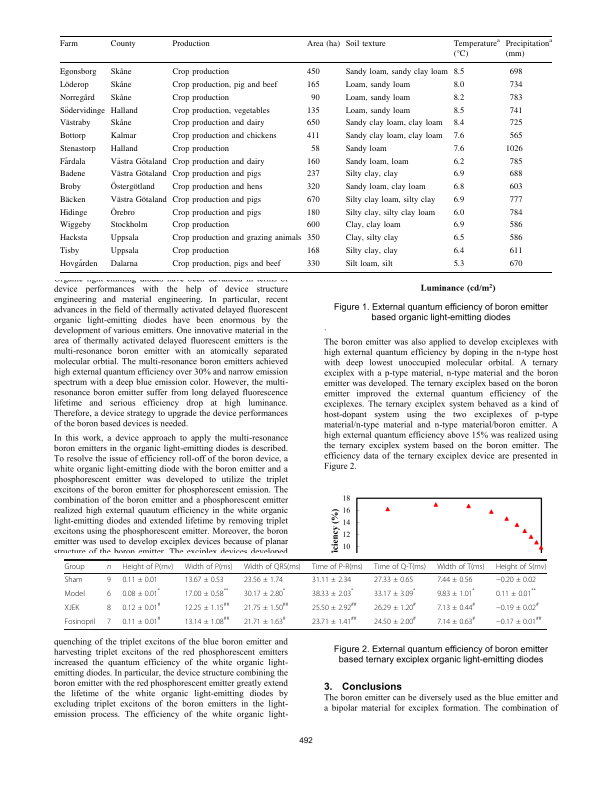borderless: (59, 34, 552, 272), (64, 558, 547, 629)
cell: (171, 233, 302, 243), (171, 259, 281, 269), (452, 37, 501, 59), (504, 37, 553, 59), (171, 80, 278, 90), (171, 131, 277, 141), (344, 68, 449, 78), (171, 106, 270, 116), (344, 119, 443, 129), (344, 131, 443, 141), (171, 119, 265, 129), (171, 157, 265, 167), (171, 182, 263, 192), (344, 195, 436, 205), (344, 208, 436, 218), (171, 170, 262, 180), (171, 195, 262, 205), (171, 208, 262, 218), (344, 182, 426, 192), (344, 80, 411, 90), (344, 93, 411, 103), (344, 106, 411, 116), (344, 157, 409, 167), (171, 68, 230, 78), (171, 93, 230, 103), (171, 144, 230, 154), (171, 221, 230, 231), (171, 246, 230, 256), (109, 157, 167, 167), (109, 170, 167, 180), (109, 195, 167, 205), (344, 221, 401, 231), (344, 233, 399, 243), (344, 170, 398, 180), (344, 246, 398, 256), (243, 562, 302, 571), (495, 615, 542, 626), (109, 181, 155, 192), (184, 601, 230, 612), (243, 601, 289, 612), (311, 601, 357, 612), (184, 615, 230, 626), (311, 615, 357, 626), (184, 587, 229, 598), (495, 601, 540, 612), (344, 259, 393, 269), (373, 562, 427, 571), (373, 601, 417, 612), (243, 615, 287, 626), (373, 615, 417, 626), (121, 562, 174, 571), (311, 562, 364, 571), (243, 587, 286, 598), (311, 587, 354, 598), (373, 587, 416, 598), (59, 106, 106, 116), (495, 562, 547, 571), (495, 587, 537, 598), (436, 562, 486, 571), (184, 562, 233, 571), (121, 587, 161, 598), (436, 587, 476, 598), (121, 601, 161, 612), (436, 601, 476, 612), (121, 615, 161, 626), (436, 615, 476, 626), (344, 144, 387, 154), (344, 39, 386, 49), (171, 39, 210, 49), (109, 221, 148, 231), (59, 259, 98, 269), (59, 68, 97, 78), (495, 575, 537, 584), (59, 144, 96, 154), (184, 575, 225, 584), (243, 575, 284, 584), (311, 575, 352, 584), (373, 575, 414, 584), (59, 93, 95, 103), (306, 39, 341, 49), (121, 575, 159, 584), (436, 575, 473, 584), (59, 221, 92, 231), (59, 119, 91, 129), (109, 206, 135, 218), (59, 80, 89, 90), (109, 233, 139, 243), (109, 246, 139, 256), (109, 106, 138, 116), (109, 144, 138, 154), (59, 208, 88, 218), (59, 233, 88, 243), (109, 259, 138, 269), (64, 617, 96, 626), (109, 131, 137, 141), (109, 39, 136, 49), (59, 131, 86, 141), (59, 157, 86, 167), (59, 170, 86, 180), (59, 195, 86, 205), (109, 67, 132, 78), (109, 118, 132, 129), (109, 80, 132, 90), (109, 93, 132, 103), (59, 182, 82, 192), (59, 246, 80, 256), (58, 39, 78, 49), (64, 589, 86, 598), (504, 144, 523, 154), (64, 562, 85, 571), (64, 575, 83, 584), (508, 68, 523, 78), (508, 80, 523, 90), (508, 93, 523, 103), (508, 106, 523, 116), (508, 119, 523, 129), (508, 131, 523, 141), (508, 157, 523, 167), (508, 170, 523, 180), (508, 182, 523, 192), (508, 195, 523, 205), (508, 208, 523, 218), (508, 221, 523, 231), (508, 233, 523, 243), (508, 246, 523, 256), (508, 259, 523, 269), (64, 603, 80, 612), (306, 68, 320, 78), (306, 80, 320, 90), (306, 106, 320, 116), (306, 119, 320, 129), (306, 131, 320, 141), (306, 157, 320, 167), (306, 170, 320, 180), (306, 182, 320, 192), (306, 195, 320, 205), (306, 208, 320, 218), (306, 221, 320, 231), (306, 233, 320, 243), (306, 246, 320, 256), (306, 259, 320, 269), (452, 68, 465, 78), (452, 80, 465, 90), (452, 93, 465, 103), (452, 106, 465, 116), (452, 119, 465, 129), (452, 131, 465, 141), (452, 144, 465, 154), (452, 157, 465, 167), (452, 170, 465, 180), (452, 182, 465, 192), (452, 195, 465, 205), (452, 208, 465, 218), (452, 221, 465, 231), (452, 233, 465, 243), (452, 246, 465, 256), (452, 259, 465, 269), (310, 93, 320, 103), (310, 144, 320, 154), (106, 575, 112, 584), (106, 589, 112, 598), (106, 603, 112, 612), (106, 617, 112, 626), (106, 564, 112, 570)
